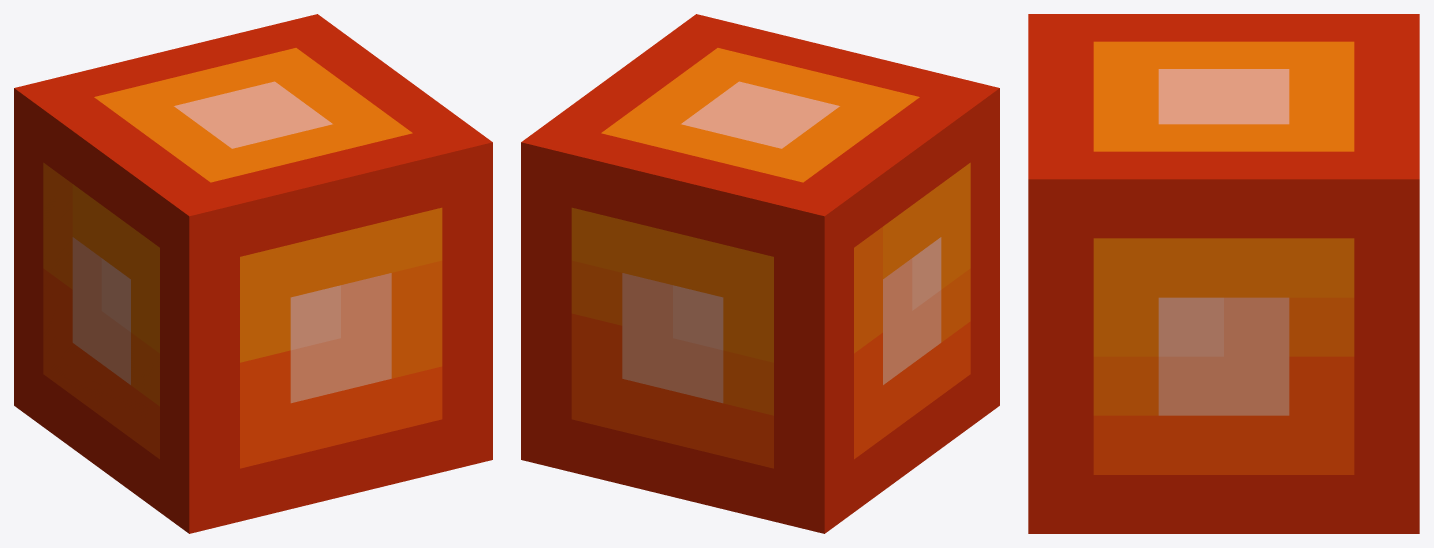
The model's file is Flame Core.fbx.
3 renders of one model, left to right at view 1: azimuth 30°, elevation 25°; view 2: azimuth 150°, elevation 25°; view 3: azimuth 270°, elevation 25°, orthographic. The views are drawn at different scales.
Parts seen in each view (by area): view 1: Flame Core; view 2: Flame Core; view 3: Flame Core.
Boxes of the visible parts, x1=… form: Flame Core: x1=14, y1=14, x2=492, y2=533; Flame Core: x1=521, y1=14, x2=999, y2=533; Flame Core: x1=1028, y1=14, x2=1419, y2=533.
Size of the model in its own units: 0.12 by 0.12 by 0.12.
1 material, 1 textured.
